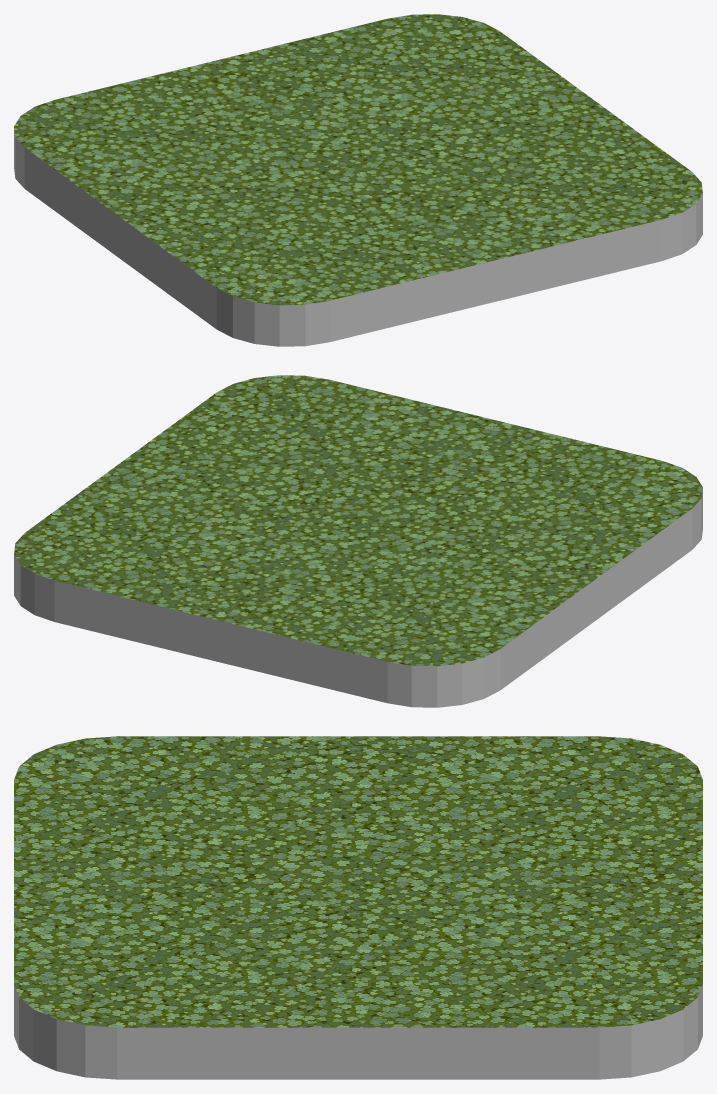
File: clover_big.fbx
3 renders of one model, top to bottom at view 1: azimuth 30°, elevation 25°; view 2: azimuth 150°, elevation 25°; view 3: azimuth 270°, elevation 25°, orthographic. The views are drawn at different scales.
Visible parts, largest first — view 1: clover_big1; view 2: clover_big1; view 3: clover_big1.
Boxes of the visible parts, left/top/right/bottom form: clover_big1: left=14, top=14, right=702, bottom=346; clover_big1: left=14, top=375, right=702, bottom=707; clover_big1: left=14, top=736, right=702, bottom=1079.
Bounding box in the file's own units: 1200 × 100 × 1200.
